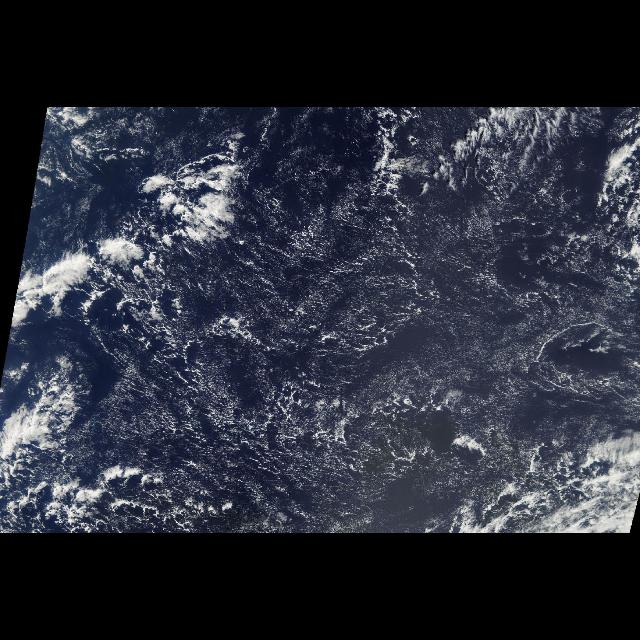Sugar: (198, 218, 524, 496)
